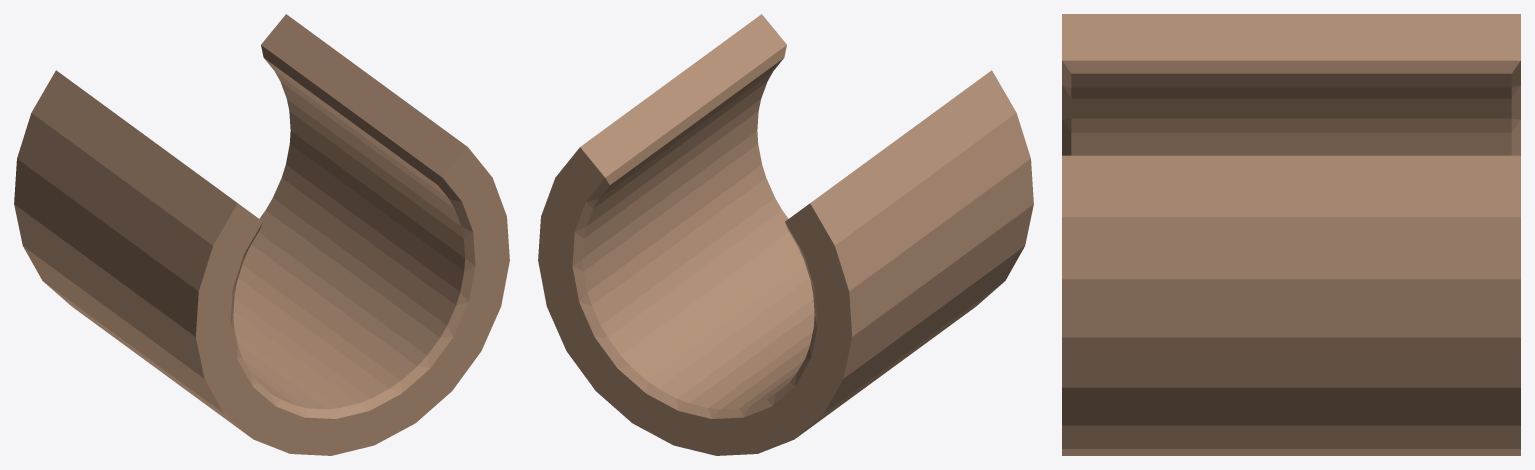
File: Tunel002.fbx
The picture shows the model from 3 angles, left to right: view 1: azimuth 30°, elevation 25°; view 2: azimuth 150°, elevation 25°; view 3: azimuth 270°, elevation 25°; orthographic projection. The views are drawn at different scales.
Parts seen in each view (by area): view 1: Cylinder.001; view 2: Cylinder.001; view 3: Cylinder.001.
Part boxes in pixels (left/top/right/bottom): Cylinder.001: left=14, top=14, right=509, bottom=455; Cylinder.001: left=538, top=14, right=1033, bottom=455; Cylinder.001: left=1062, top=14, right=1520, bottom=455.
Size of the model in its own units: 807 by 676 by 808.
